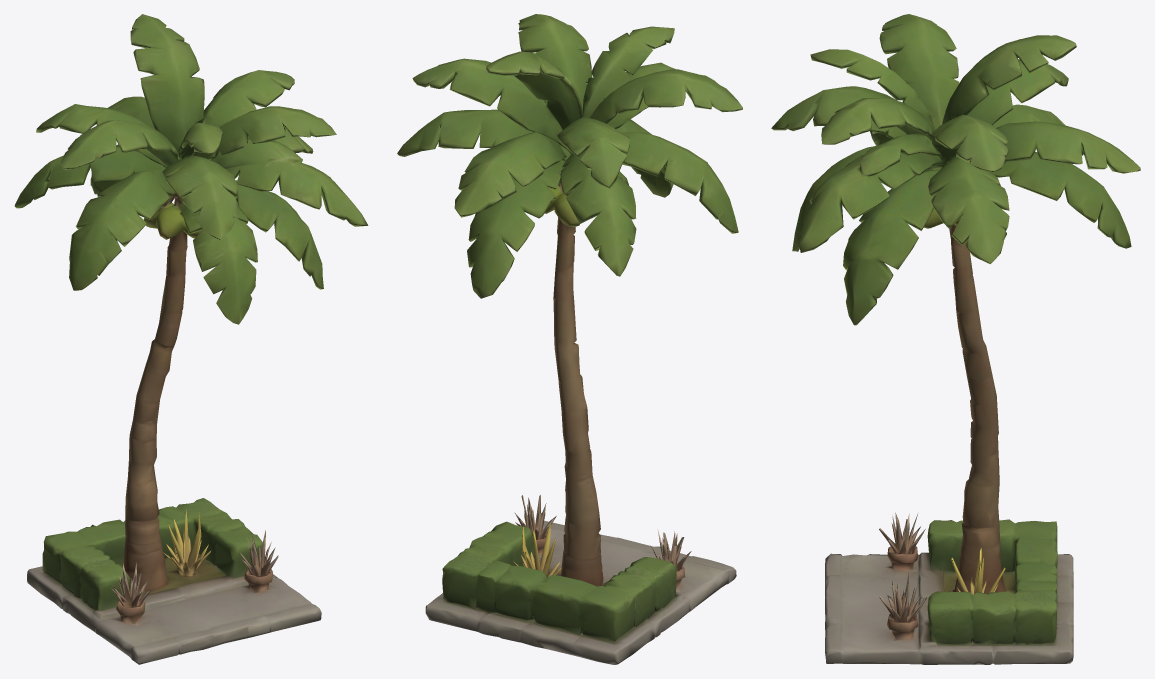
File: lagos_palm.glb
The picture shows the model from 3 angles, left to right: view 1: azimuth 30°, elevation 25°; view 2: azimuth 150°, elevation 25°; view 3: azimuth 270°, elevation 25°; orthographic projection. The views are drawn at different scales.
Parts seen in each view (by area): view 1: tripo_node_2b8cc104-234d-4695-ac42-12181020b2b7; view 2: tripo_node_2b8cc104-234d-4695-ac42-12181020b2b7; view 3: tripo_node_2b8cc104-234d-4695-ac42-12181020b2b7.
Boxes of the visible parts, <box> form: tripo_node_2b8cc104-234d-4695-ac42-12181020b2b7: <box>14,14,368,664</box>; tripo_node_2b8cc104-234d-4695-ac42-12181020b2b7: <box>397,14,742,664</box>; tripo_node_2b8cc104-234d-4695-ac42-12181020b2b7: <box>771,14,1140,664</box>.
Bounding box in the file's own units: 0.5539 × 1 × 0.5667.
Materials: 1 (1 with a texture image).
